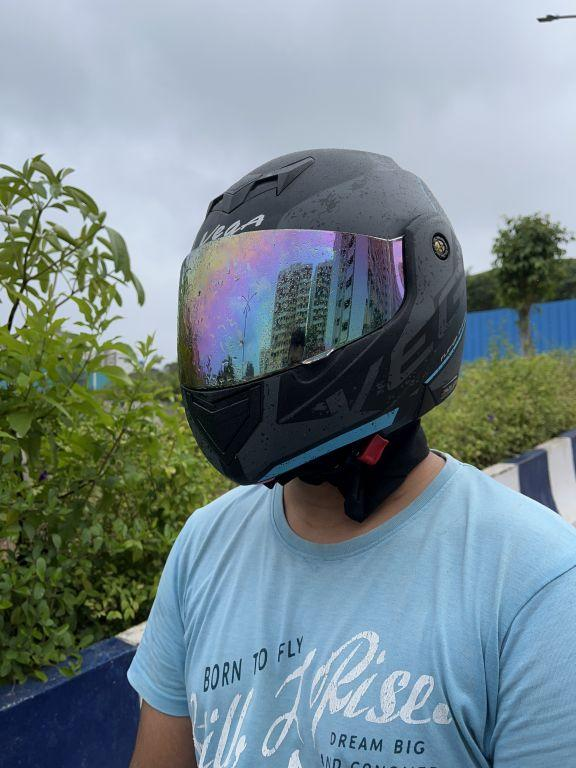helmet: (165, 140, 480, 495)
